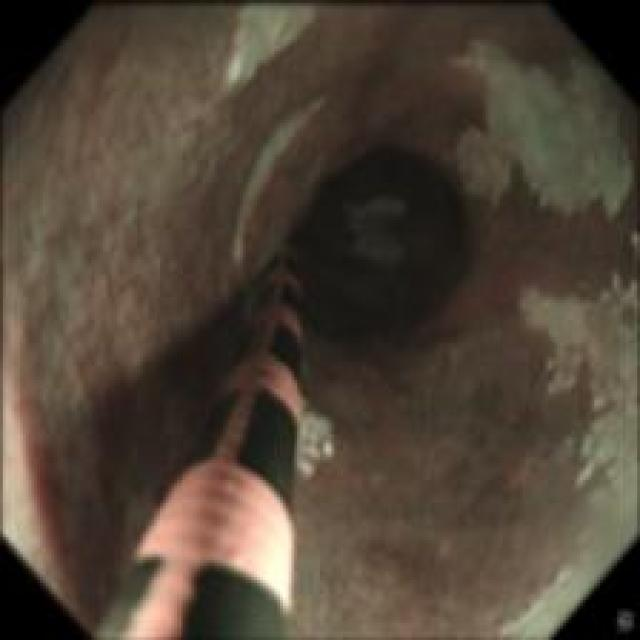blur: (1, 1, 638, 636), (101, 242, 302, 635)
contrast: (46, 278, 269, 562), (271, 129, 491, 371)
instrument: (100, 240, 304, 634)
saturation: (256, 492, 298, 602)
